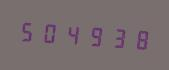eight: (128, 23, 149, 54)
five: (17, 15, 38, 46)
four: (62, 18, 83, 49)
nine: (84, 20, 105, 51)
three: (106, 21, 127, 52)
zero: (39, 16, 60, 48)
